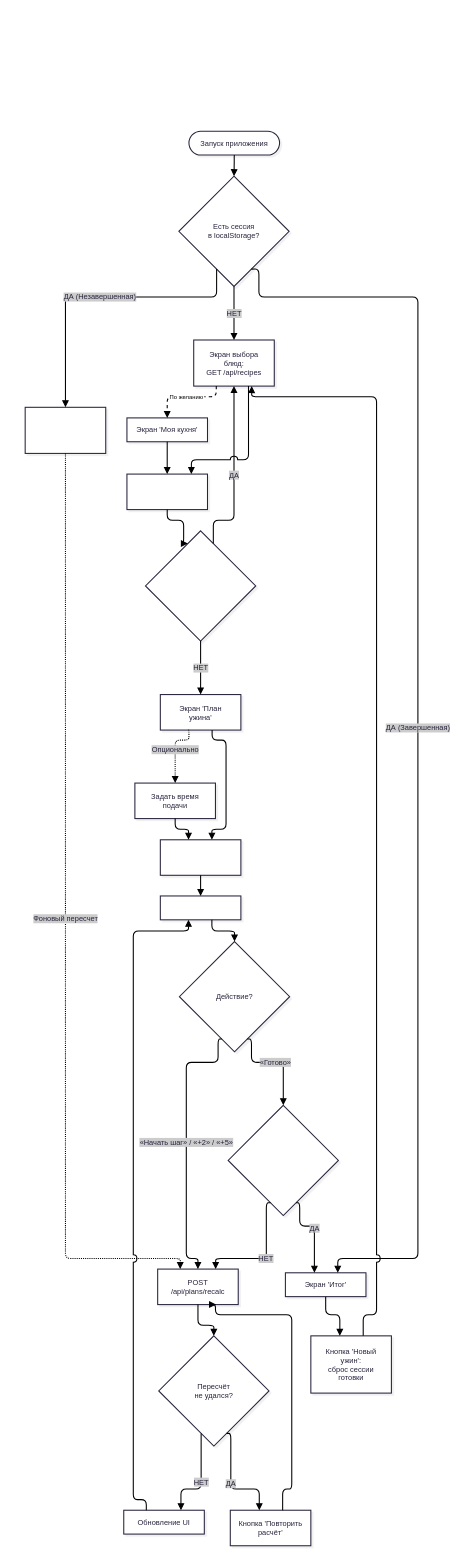
The diagram is 458 pixels wide and 1557 high, and some of its shapes have lost their labels. Each missing label, with the centre of its shape:
"POST /api/plans Создание плана" belongs at pixel 168 492.
"Все шаги завершены?" belongs at pixel 284 1161.
"Кнопка 'Начать готовку'" belongs at pixel 201 858.
"Ошибка?" belongs at pixel 201 586.
"Экран 'Сейчас'" belongs at pixel 201 908.
"Экран 'Сейчас': восстановление шага" belongs at pixel 66 431.
